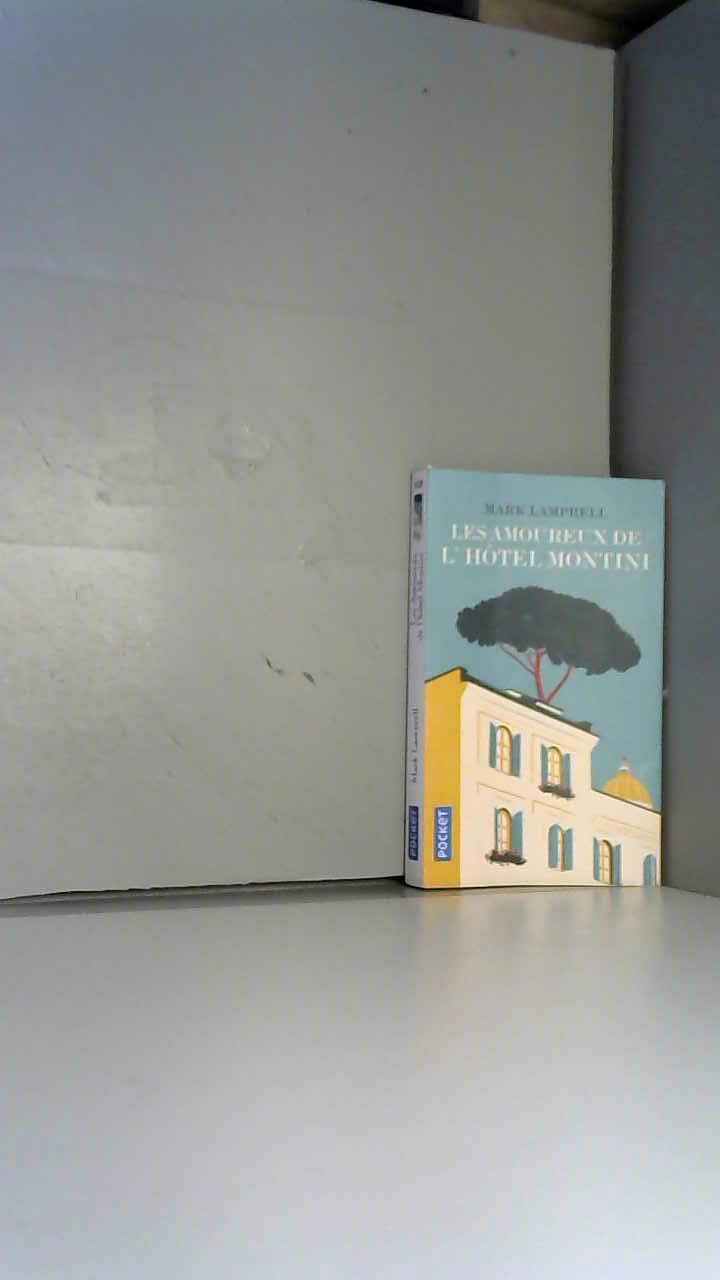book: (380, 450, 717, 937)
